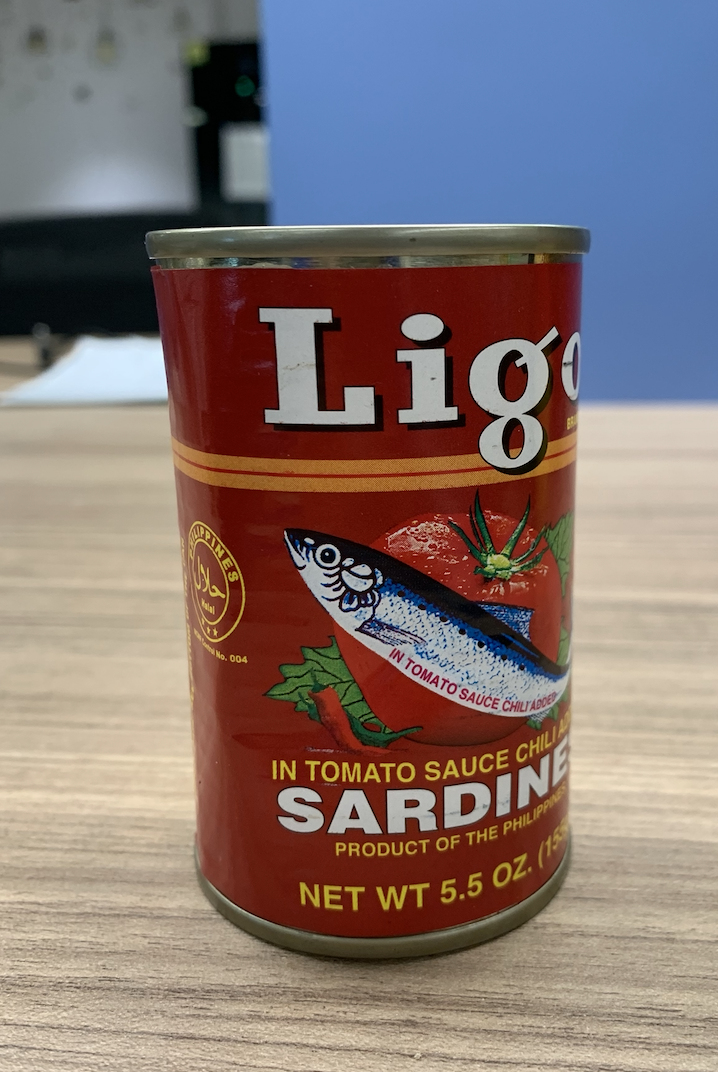sardines_150g: (183, 275, 575, 909)
